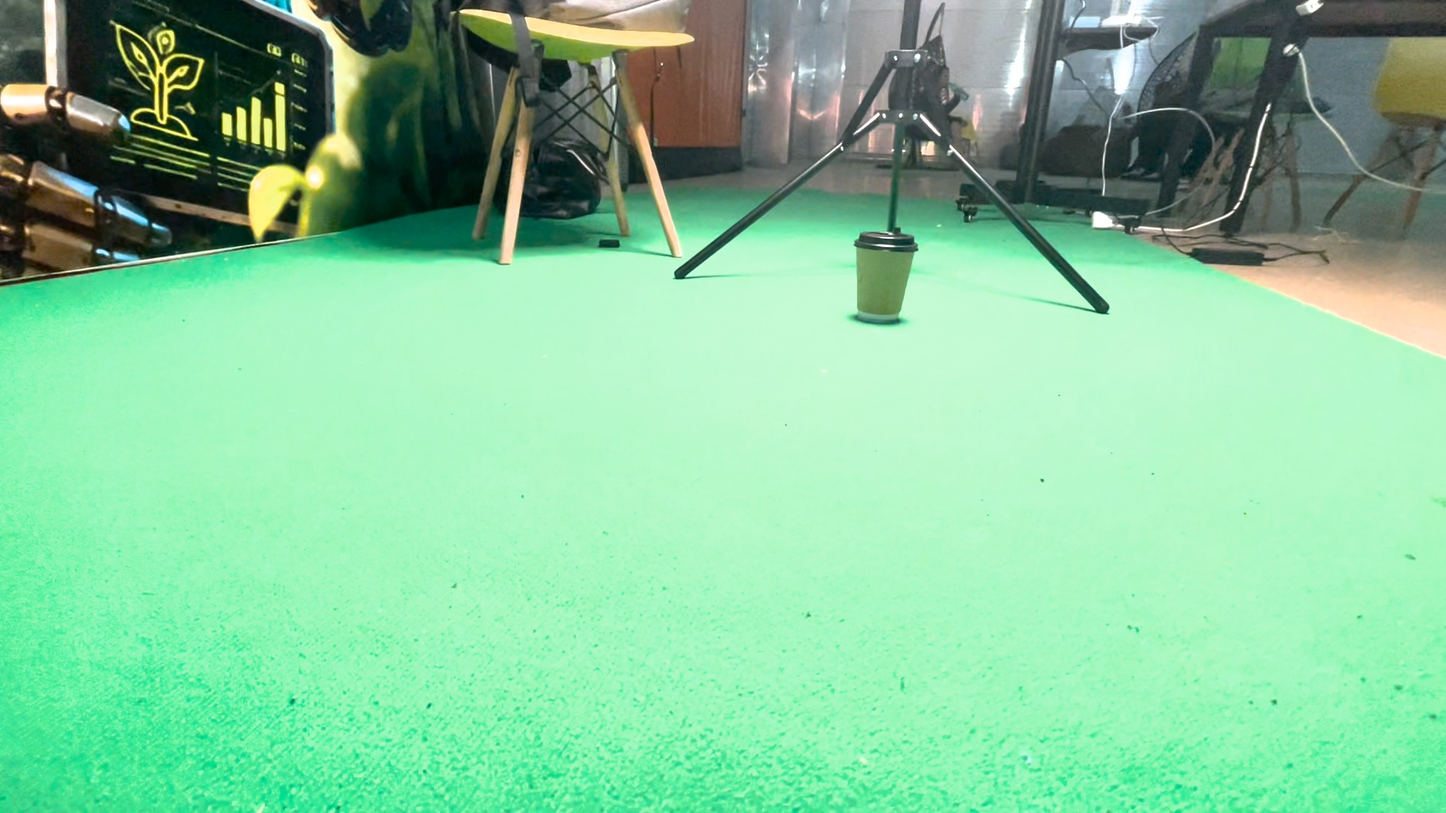cup: (688, 431, 812, 602)
